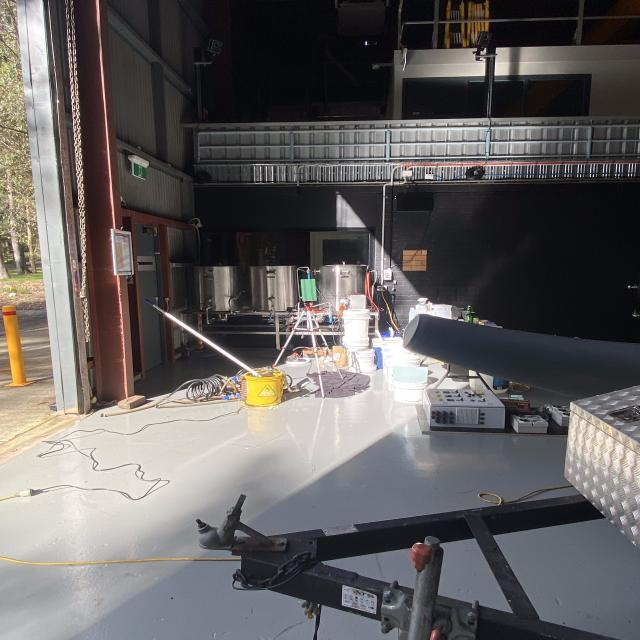matrix: (295, 275, 320, 306)
